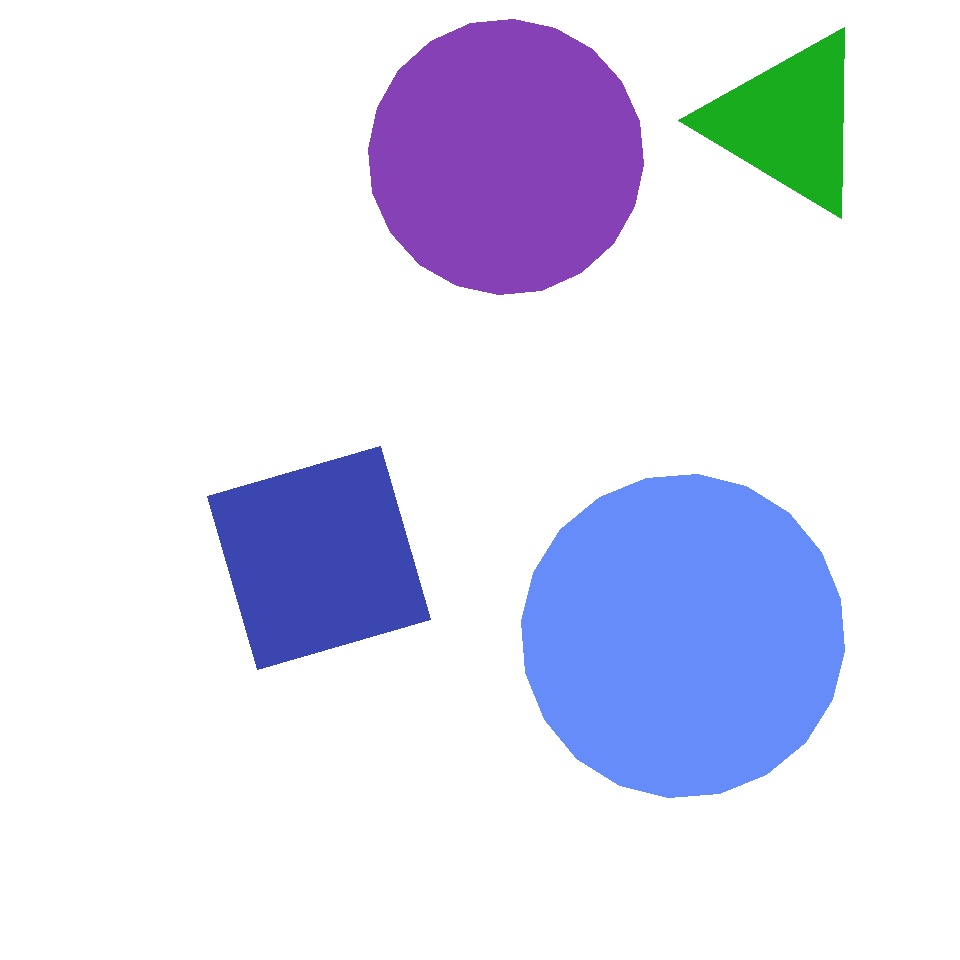circle: (297, 342, 593, 642), (630, 634, 880, 920), (705, 26, 871, 218)
square: (207, 447, 430, 670), (102, 208, 268, 376), (730, 846, 837, 954)
triangle: (522, 474, 844, 798), (24, 16, 312, 304), (369, 20, 644, 294)
